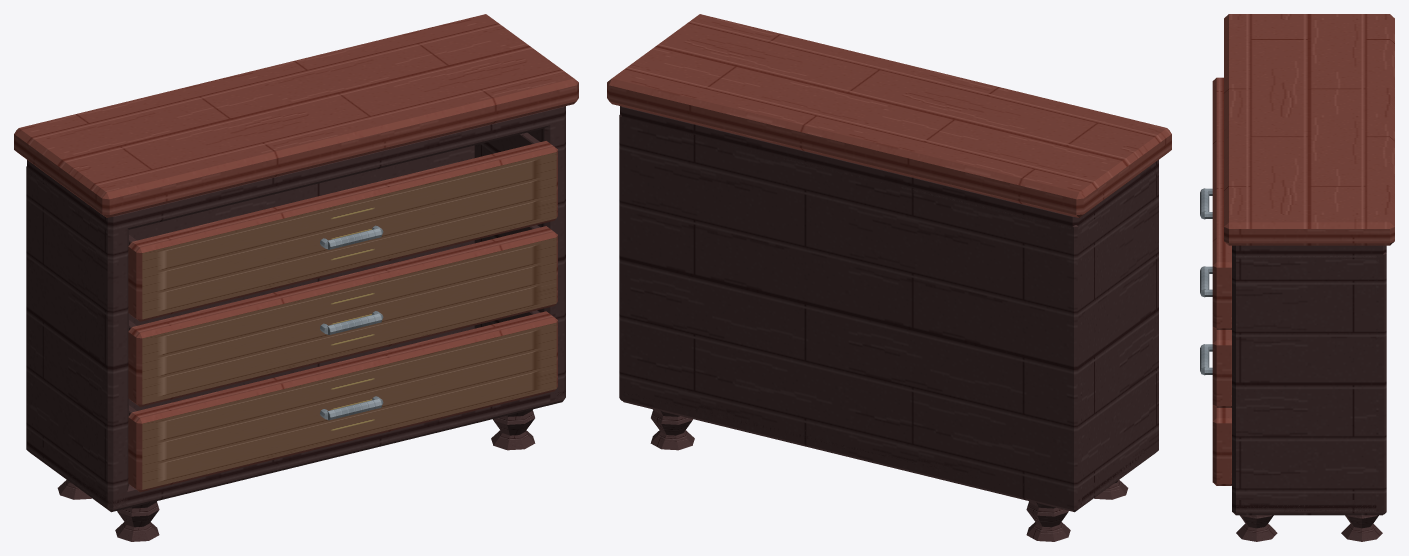
File: MD_30_ChestOfDrawers.fbx
3 views of the same model, side by side, from view 1: azimuth 30°, elevation 25°; view 2: azimuth 150°, elevation 25°; view 3: azimuth 270°, elevation 25° (orthographic). The views are drawn at different scales.
Visible parts, largest first — view 1: MD_30_ChestOfDrawers_cabinet_crown, MD_30_ChestOfDrawers_sliding_drawer, MD_30_ChestOfDrawers_sliding_drawer.001, MD_30_ChestOfDrawers_sliding_drawer.002, MD_30_ChestOfDrawers_cabinet_side, MD_30_ChestOfDrawers_cabinet_shelf.001, MD_30_ChestOfDrawers_cabinet_shelf, MD_30_ChestOfDrawers_drawer_tray_back.002, MD_30_ChestOfDrawers_cabinet_side.001, MD_30_ChestOfDrawers_drawer_tray_back.001, MD_30_ChestOfDrawers_drawer_tray_back, MD_30_ChestOfDrawers_turned_leg (+3 smaller); view 2: MD_30_ChestOfDrawers_cabinet_back, MD_30_ChestOfDrawers_cabinet_crown, MD_30_ChestOfDrawers_cabinet_side, MD_30_ChestOfDrawers_cabinet_shelf.001, MD_30_ChestOfDrawers_cabinet_shelf, MD_30_ChestOfDrawers_turned_leg.001, MD_30_ChestOfDrawers_turned_leg.003; view 3: MD_30_ChestOfDrawers_cabinet_crown, MD_30_ChestOfDrawers_cabinet_side.001, MD_30_ChestOfDrawers_sliding_drawer.002, MD_30_ChestOfDrawers_cabinet_back, MD_30_ChestOfDrawers_cabinet_shelf, MD_30_ChestOfDrawers_cabinet_shelf.001, MD_30_ChestOfDrawers_sliding_drawer.001, MD_30_ChestOfDrawers_sliding_drawer, MD_30_ChestOfDrawers_turned_leg.003, MD_30_ChestOfDrawers_turned_leg.002, MD_30_ChestOfDrawers_drawer_handle_grip, MD_30_ChestOfDrawers_drawer_handle_grip.001 (+1 smaller).
Part boxes in pixels (x1,y1,x2,y2): MD_30_ChestOfDrawers_cabinet_crown: [14, 14, 578, 217]; MD_30_ChestOfDrawers_sliding_drawer: [128, 311, 557, 492]; MD_30_ChestOfDrawers_sliding_drawer.001: [128, 226, 557, 406]; MD_30_ChestOfDrawers_sliding_drawer.002: [128, 141, 557, 321]; MD_30_ChestOfDrawers_cabinet_side: [27, 169, 128, 508]; MD_30_ChestOfDrawers_cabinet_shelf.001: [27, 106, 565, 231]; MD_30_ChestOfDrawers_cabinet_shelf: [27, 384, 565, 512]; MD_30_ChestOfDrawers_drawer_tray_back.002: [129, 145, 474, 240]; MD_30_ChestOfDrawers_cabinet_side.001: [527, 116, 565, 401]; MD_30_ChestOfDrawers_drawer_tray_back.001: [129, 240, 474, 325]; MD_30_ChestOfDrawers_drawer_tray_back: [129, 325, 474, 410]; MD_30_ChestOfDrawers_turned_leg: [115, 501, 159, 541]; MD_30_ChestOfDrawers_cabinet_back: [619, 114, 1081, 511]; MD_30_ChestOfDrawers_cabinet_crown: [607, 14, 1171, 217]; MD_30_ChestOfDrawers_cabinet_side: [1059, 169, 1158, 507]; MD_30_ChestOfDrawers_cabinet_shelf.001: [620, 106, 1158, 230]; MD_30_ChestOfDrawers_cabinet_shelf: [622, 385, 1158, 512]; MD_30_ChestOfDrawers_turned_leg.001: [1026, 501, 1070, 541]; MD_30_ChestOfDrawers_turned_leg.003: [650, 409, 694, 450]; MD_30_ChestOfDrawers_cabinet_crown: [1224, 14, 1394, 245]; MD_30_ChestOfDrawers_cabinet_side.001: [1232, 254, 1382, 511]; MD_30_ChestOfDrawers_sliding_drawer.002: [1212, 77, 1231, 329]; MD_30_ChestOfDrawers_cabinet_back: [1376, 252, 1386, 514]; MD_30_ChestOfDrawers_cabinet_shelf: [1232, 499, 1383, 515]; MD_30_ChestOfDrawers_cabinet_shelf.001: [1232, 245, 1386, 259]; MD_30_ChestOfDrawers_sliding_drawer.001: [1212, 327, 1231, 407]; MD_30_ChestOfDrawers_sliding_drawer: [1212, 405, 1231, 485]; MD_30_ChestOfDrawers_turned_leg.003: [1341, 515, 1382, 541]; MD_30_ChestOfDrawers_turned_leg.002: [1236, 515, 1277, 541]; MD_30_ChestOfDrawers_drawer_handle_grip: [1200, 344, 1209, 375]; MD_30_ChestOfDrawers_drawer_handle_grip.001: [1200, 266, 1209, 297].
Size of the model in its own units: 1.56 by 1.14 by 0.604.
4 materials, 4 textured.
